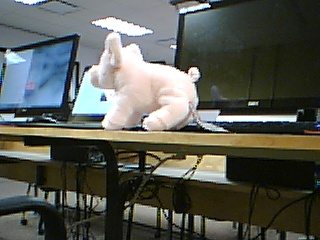piggy: (88, 31, 202, 135)
